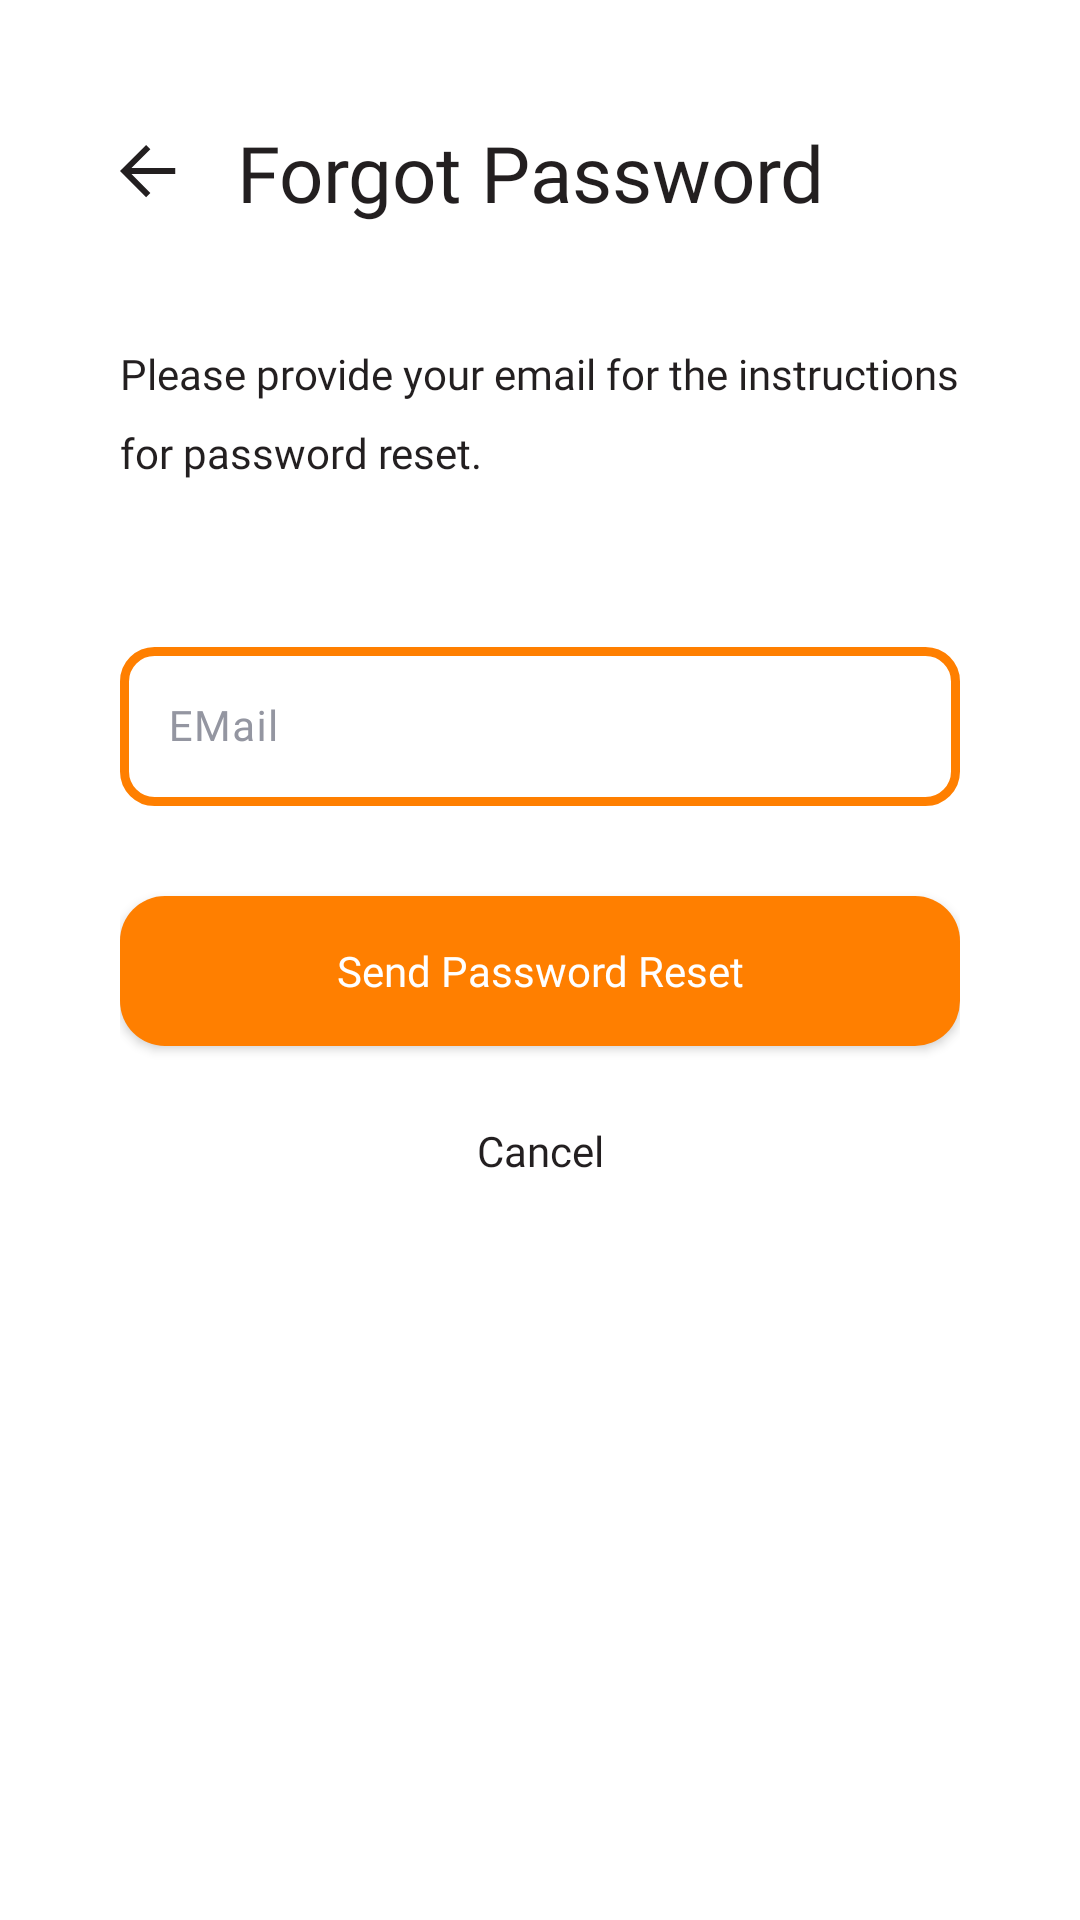

Icons on this 1080*1920 Android screen, each with its box as bbox=(x1, y1, x2, y2):
arrow: bbox=(120, 145, 176, 197)
